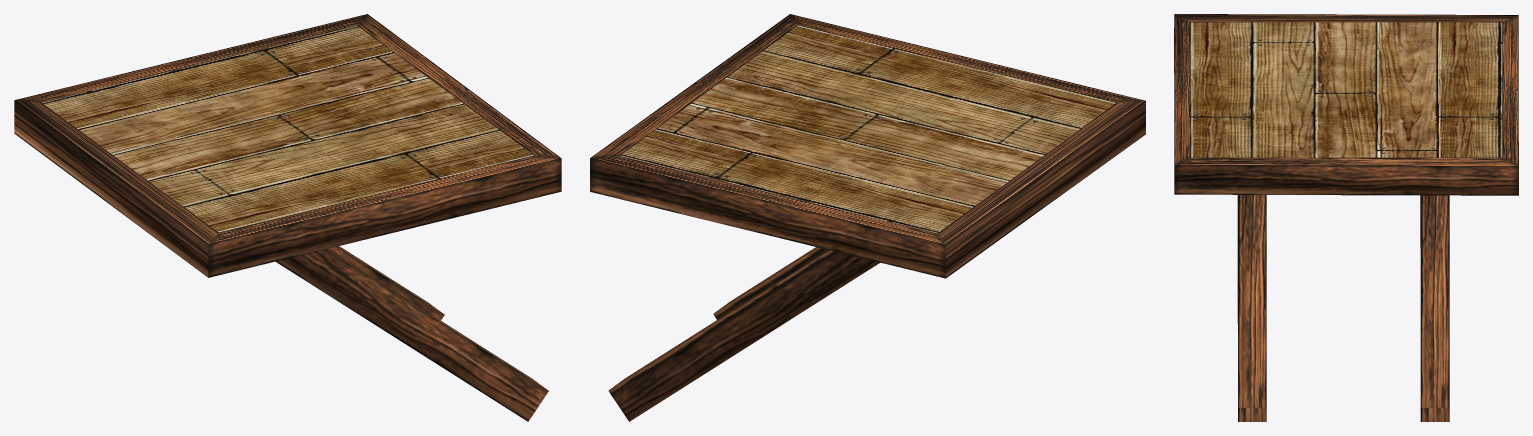
File: LAKETOWN_WAREHOUSE3_PS_WH3_PLATFORM84847__GX.fbx
The picture shows the model from 3 angles, left to right: view 1: azimuth 30°, elevation 25°; view 2: azimuth 150°, elevation 25°; view 3: azimuth 270°, elevation 25°; orthographic projection. The views are drawn at different scales.
Parts seen in each view (by area): view 1: LAKETOWN_WAREHOUSE3_PS_WH3_PLATFORM84847__GX; view 2: LAKETOWN_WAREHOUSE3_PS_WH3_PLATFORM84847__GX; view 3: LAKETOWN_WAREHOUSE3_PS_WH3_PLATFORM84847__GX.
Boxes of the visible parts, bbox=[...] form: LAKETOWN_WAREHOUSE3_PS_WH3_PLATFORM84847__GX: bbox=[14, 14, 561, 421]; LAKETOWN_WAREHOUSE3_PS_WH3_PLATFORM84847__GX: bbox=[590, 14, 1145, 421]; LAKETOWN_WAREHOUSE3_PS_WH3_PLATFORM84847__GX: bbox=[1174, 14, 1518, 421].
Size of the model in its own units: 23072 by 17022 by 20816.
2 materials, 2 textured.
